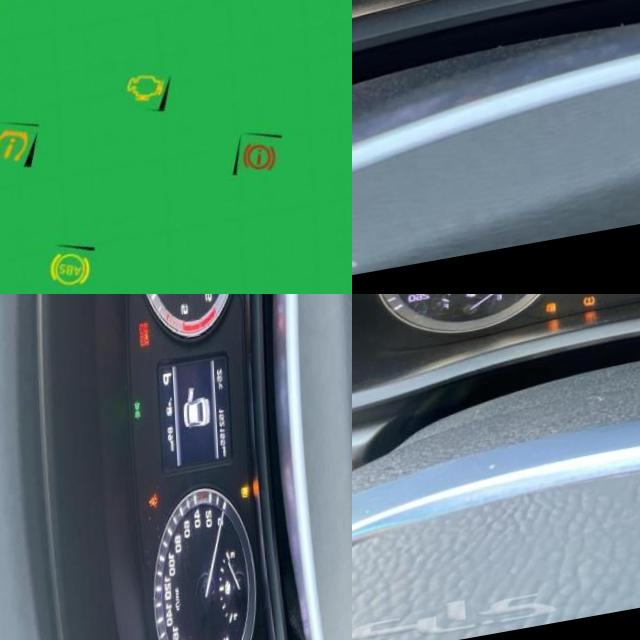Seat Belt: (144, 502, 155, 516)
